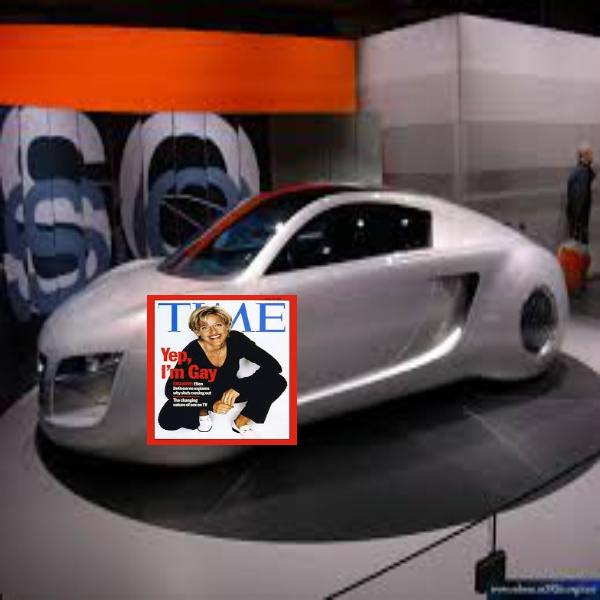time_cover: (151, 289, 299, 448)
